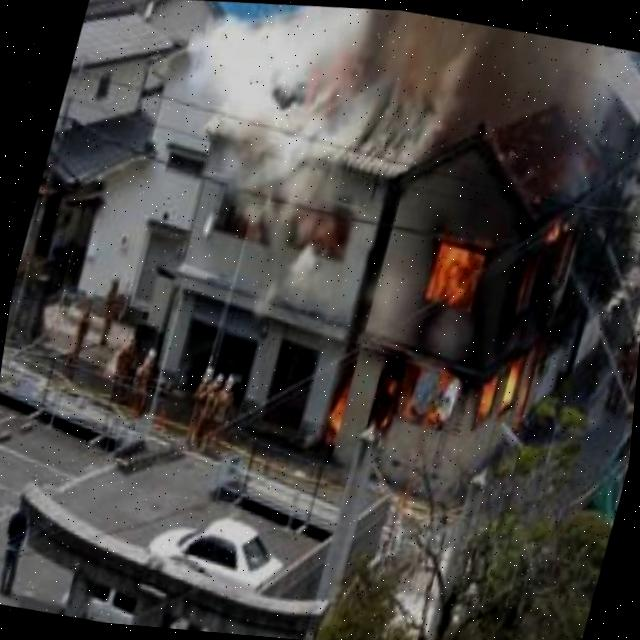fire: (289, 161, 603, 499)
